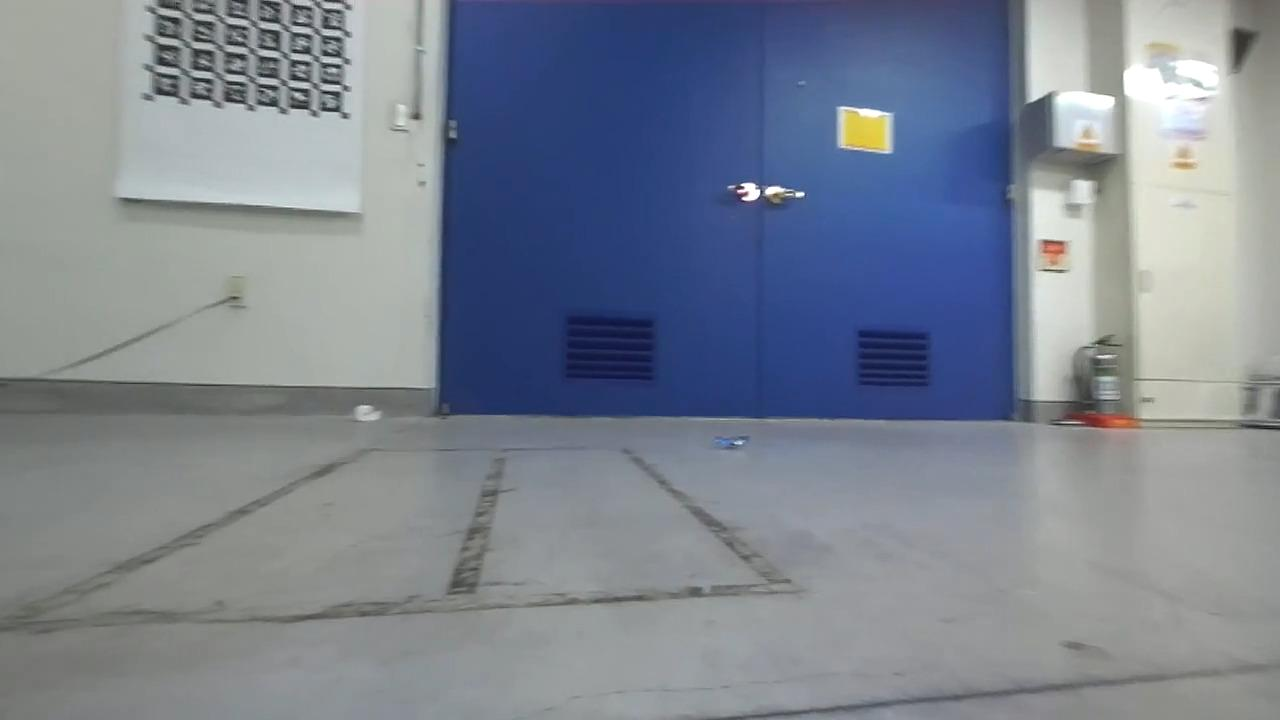crazyflie: (710, 432, 752, 453)
